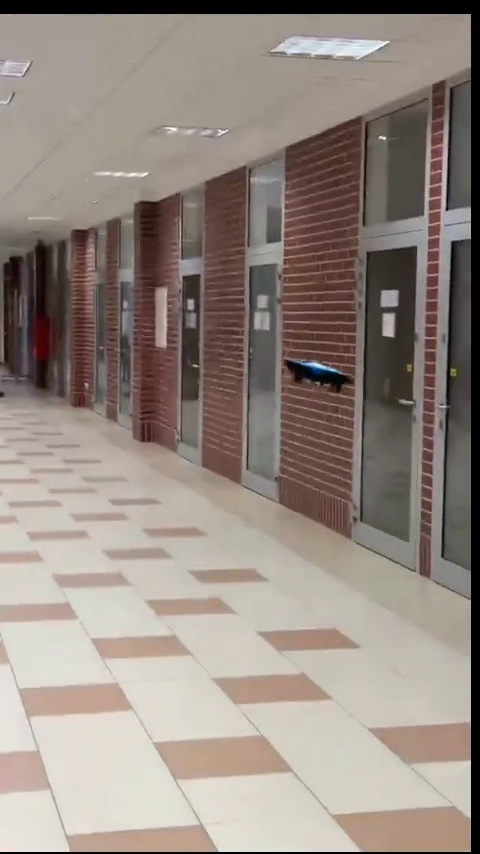drone: (283, 351, 354, 396)
